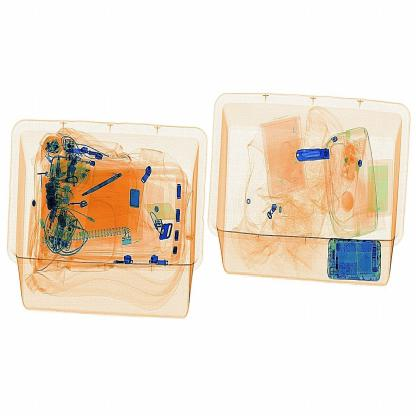knife: (292, 135, 340, 181)
